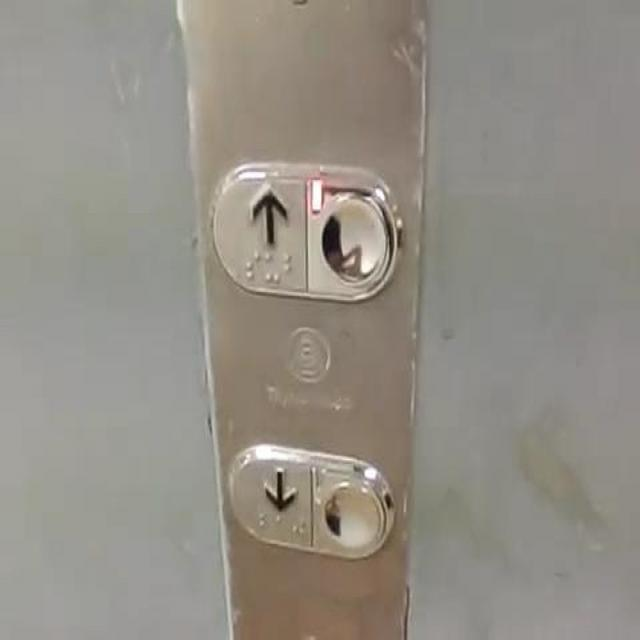down: (223, 436, 398, 565)
up: (204, 152, 404, 309)
